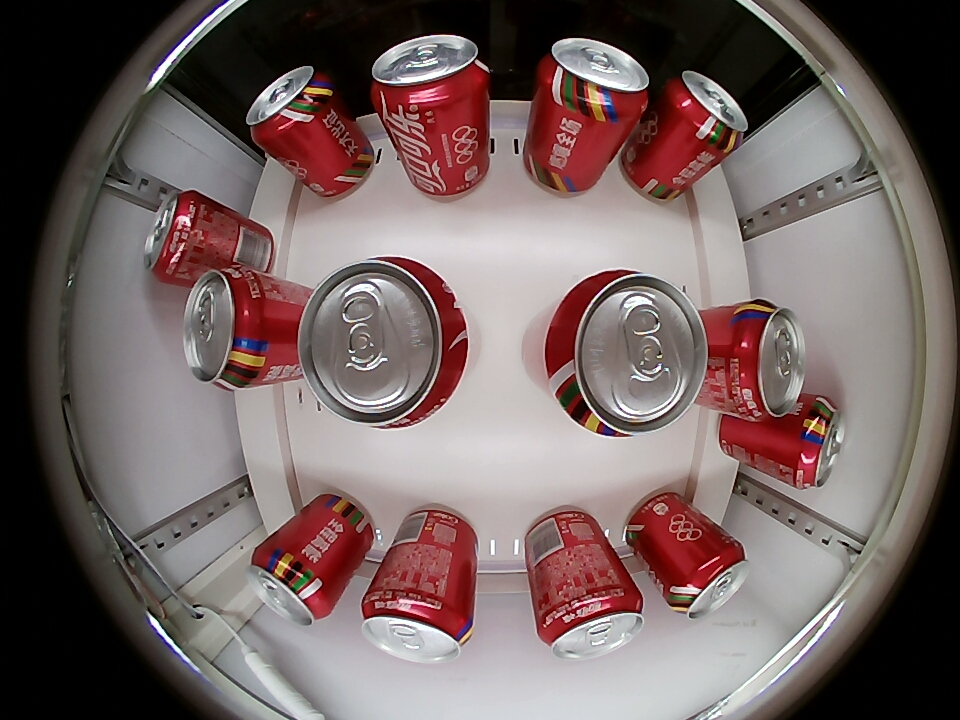kele: (297, 256, 470, 429), (546, 270, 710, 437), (183, 267, 271, 392), (722, 299, 807, 420), (370, 35, 488, 113), (540, 37, 649, 120), (361, 588, 473, 664), (538, 588, 645, 661), (248, 544, 334, 626), (246, 65, 333, 146), (663, 70, 747, 150), (669, 538, 750, 618), (144, 189, 206, 280), (784, 396, 844, 489)
